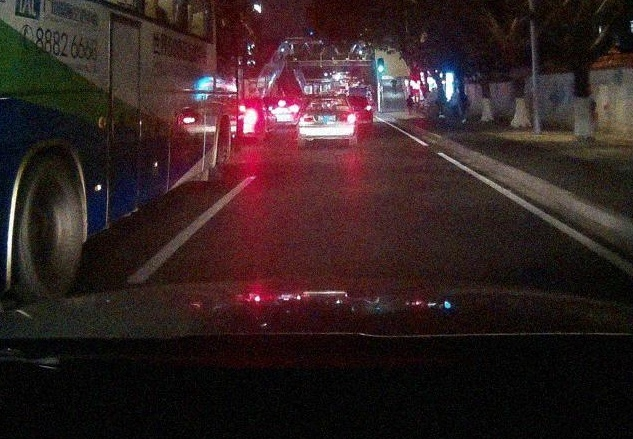L_light: (299, 115, 316, 124)
R_light: (338, 114, 356, 122)
T_light: (323, 99, 331, 102)
night-right: (298, 97, 357, 148)
